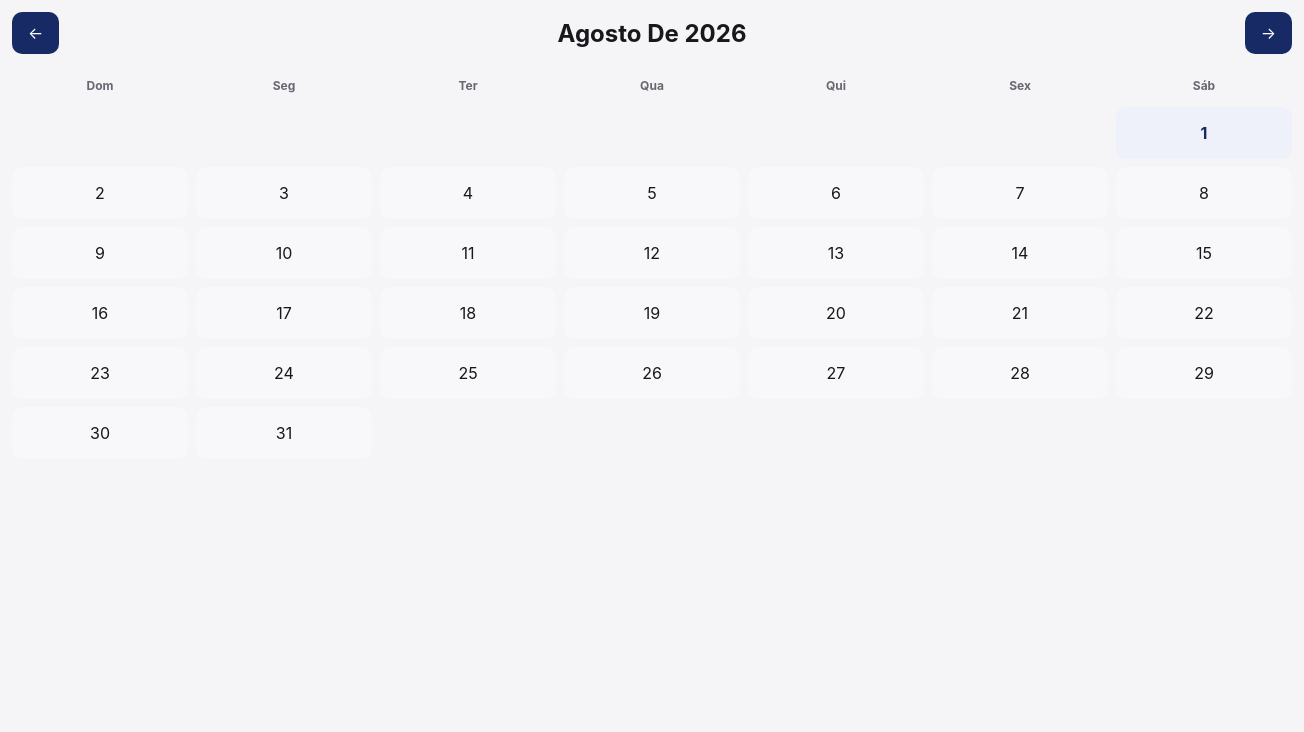
Test case: Calendar › loads a month and opens studied-day details
The width and height of the screenshot is (1304, 732).
Click the button titled "45 minutos estudados".
click(1204, 133)  # box [1116, 107, 1292, 159]
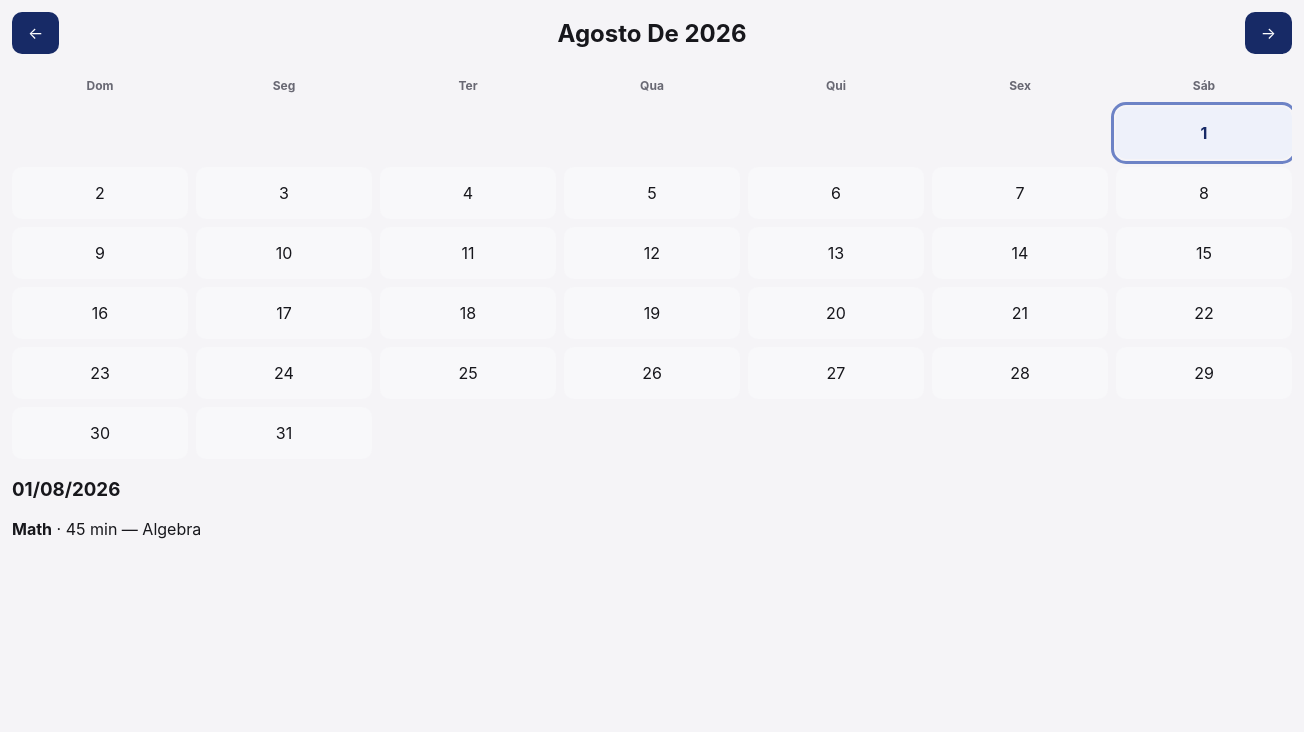
Expected: the text "Math" is shown, [12, 519, 52, 539]
